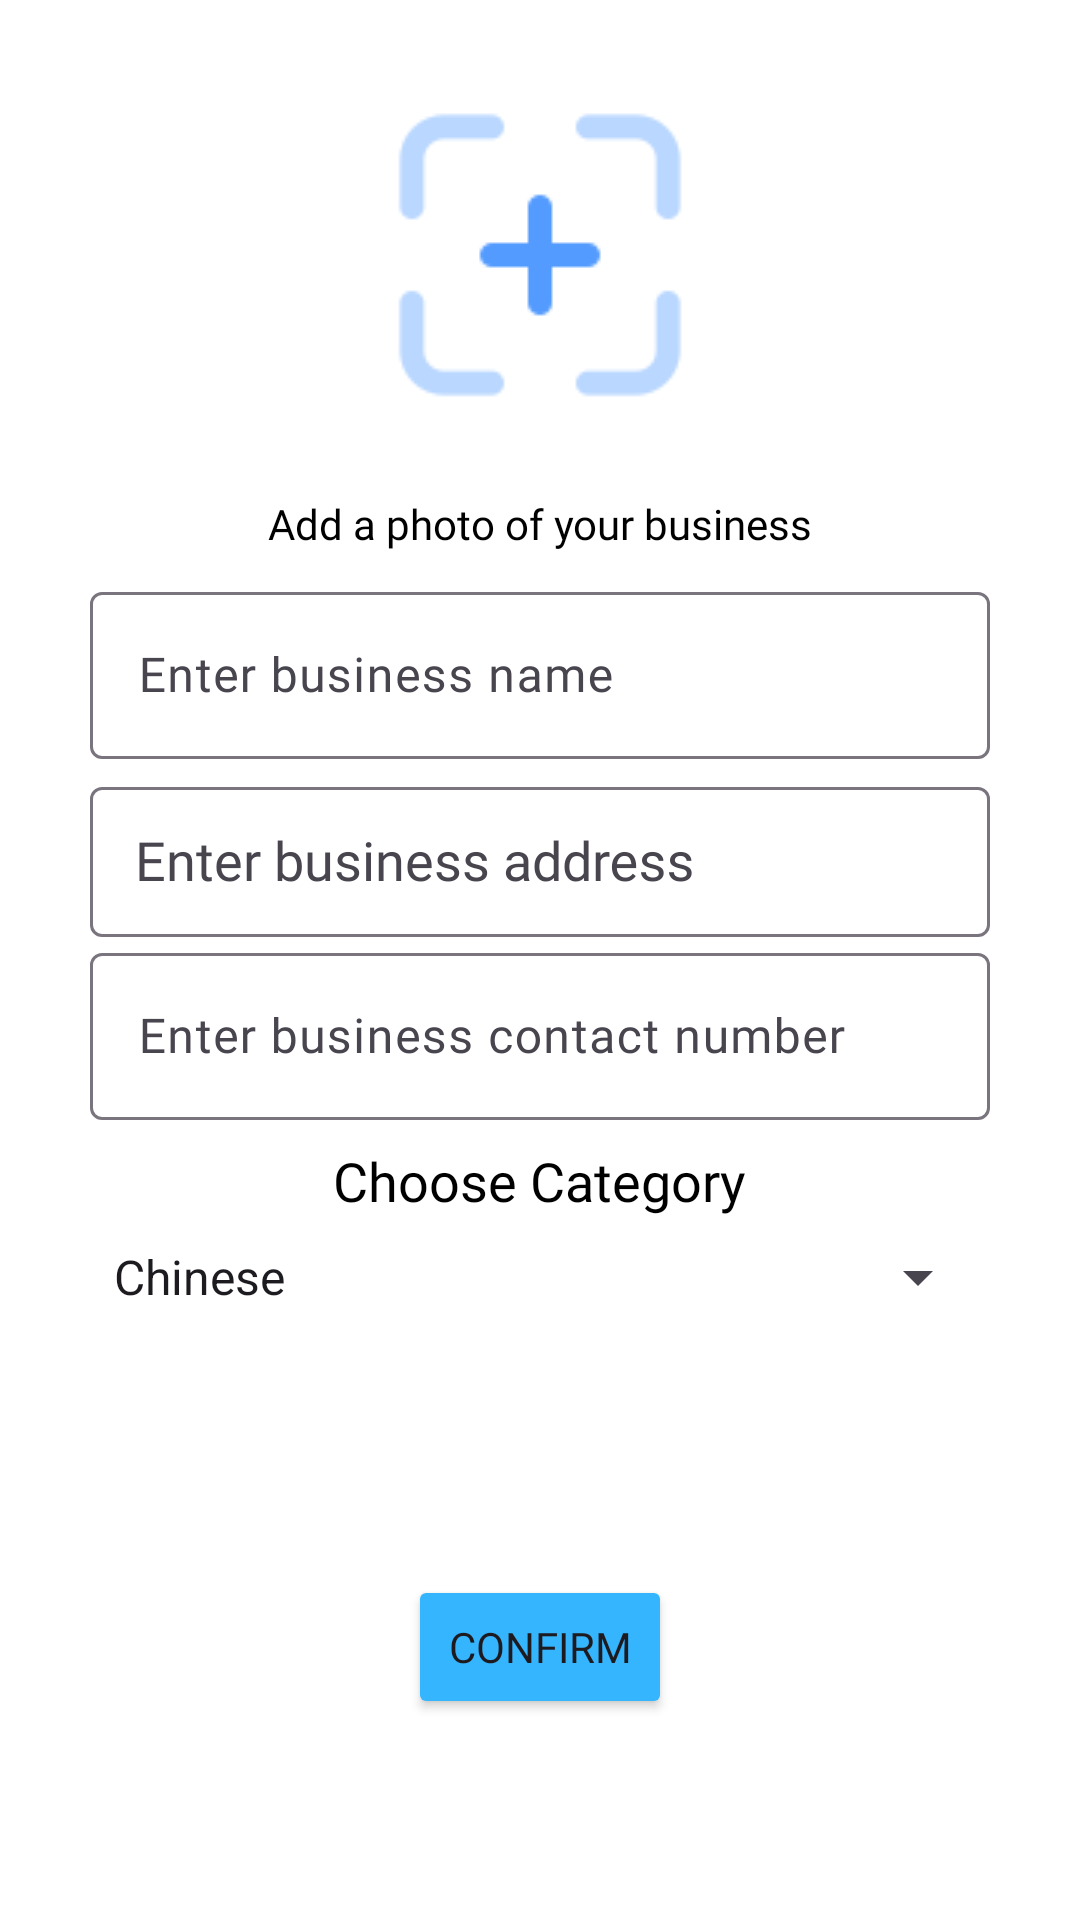

Icon click points for this 1080w x 1920h phone screenshot, format [x,y]:
addimage: [540,255]
